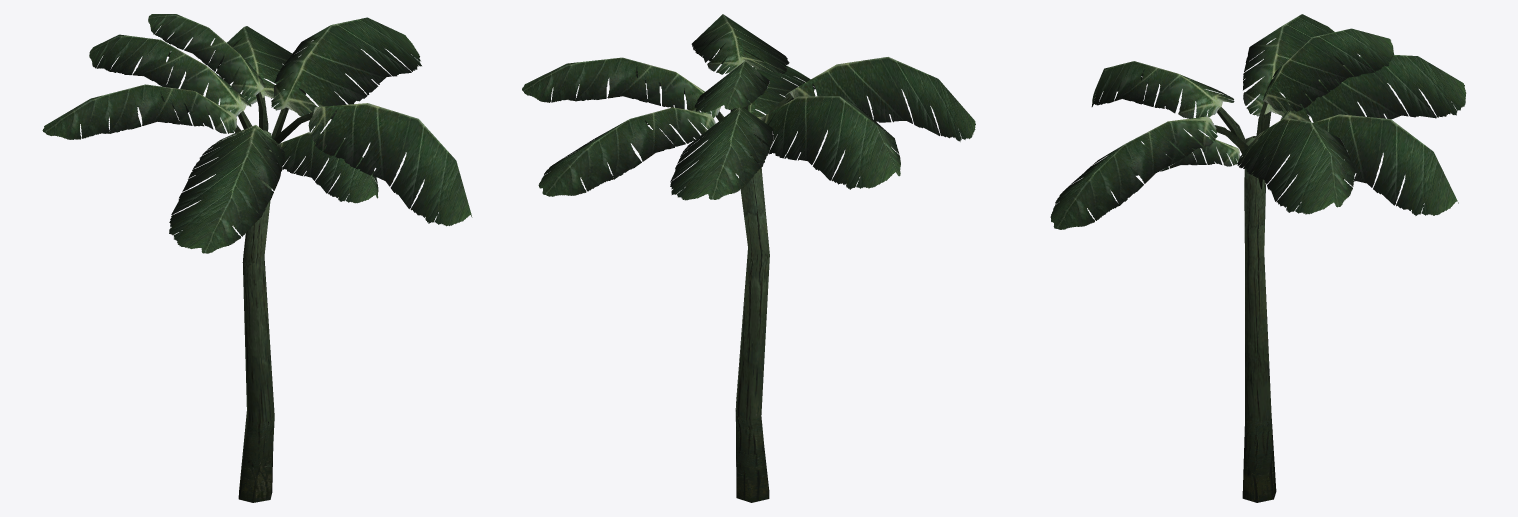
The model's file is stam.obj.
3 views of the same model, side by side, from view 1: azimuth 30°, elevation 25°; view 2: azimuth 150°, elevation 25°; view 3: azimuth 270°, elevation 25° (orthographic). The views are drawn at different scales.
Parts seen in each view (by area): view 1: stam; view 2: stam; view 3: stam.
Boxes of the visible parts, x1,y1,x2,y2 form: stam: (42, 14, 472, 502); stam: (522, 14, 975, 502); stam: (1050, 14, 1466, 502).
Size of the model in its own units: 160 by 170 by 164.
Materials: 1 (1 with a texture image).
